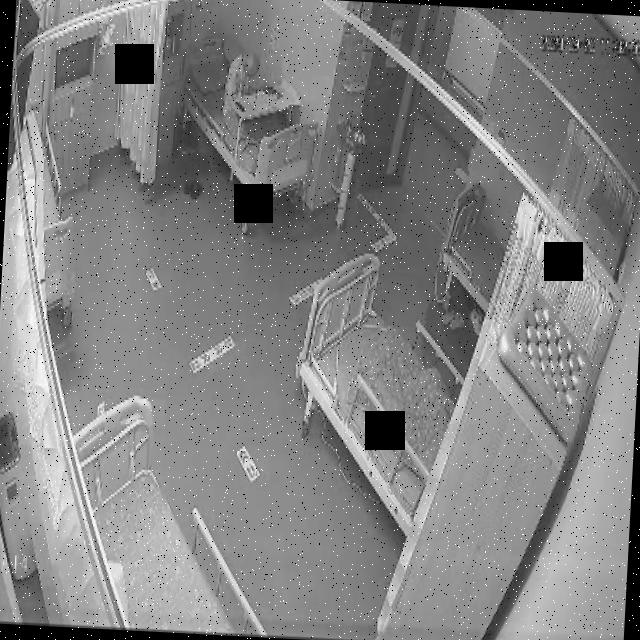bed: (62, 397, 278, 638), (290, 252, 462, 535), (170, 35, 324, 210), (439, 182, 509, 316)
patient: (221, 44, 264, 120)
sit: (222, 46, 262, 121)
